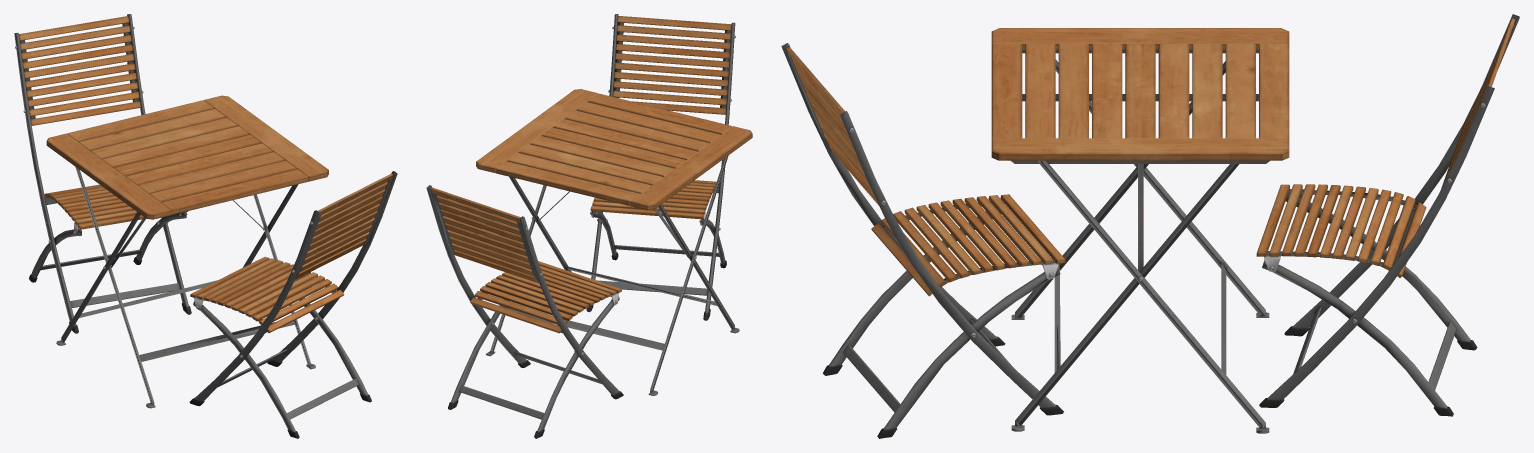
File: outdoor_table_chair_set_01.glb
The picture shows the model from 3 angles, left to right: view 1: azimuth 30°, elevation 25°; view 2: azimuth 150°, elevation 25°; view 3: azimuth 270°, elevation 25°; orthographic projection. The views are drawn at different scales.
Parts seen in each view (by area): view 1: outdoor_table_chair_set_01_table, outdoor_table_chair_set_01_chair_02, outdoor_table_chair_set_01_chair_01; view 2: outdoor_table_chair_set_01_table, outdoor_table_chair_set_01_chair_02, outdoor_table_chair_set_01_chair_01; view 3: outdoor_table_chair_set_01_table, outdoor_table_chair_set_01_chair_01, outdoor_table_chair_set_01_chair_02.
Boxes of the visible parts, x1=… form: outdoor_table_chair_set_01_table: x1=46, y1=95, x2=328, y2=408; outdoor_table_chair_set_01_chair_02: x1=14, y1=14, x2=191, y2=333; outdoor_table_chair_set_01_chair_01: x1=189, y1=171, x2=397, y2=438; outdoor_table_chair_set_01_table: x1=476, y1=89, x2=752, y2=395; outdoor_table_chair_set_01_chair_02: x1=426, y1=185, x2=623, y2=438; outdoor_table_chair_set_01_chair_01: x1=586, y1=14, x2=735, y2=320; outdoor_table_chair_set_01_table: x1=991, y1=28, x2=1289, y2=433; outdoor_table_chair_set_01_chair_01: x1=781, y1=43, x2=1065, y2=438; outdoor_table_chair_set_01_chair_02: x1=1256, y1=14, x2=1519, y2=416.
Bounding box in the file's own units: 0.7417 × 0.8575 × 1.72.
Materials: 2 (2 with a texture image).
